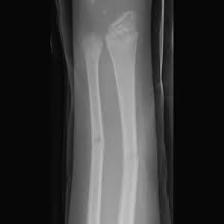impacted-fracture: (56, 0, 174, 224)
